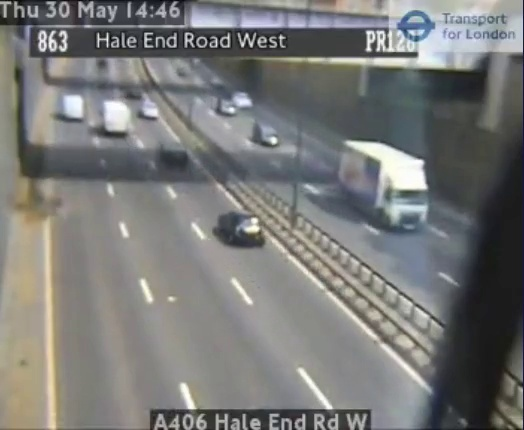car: (219, 212, 265, 245)
van: (101, 101, 129, 134)
